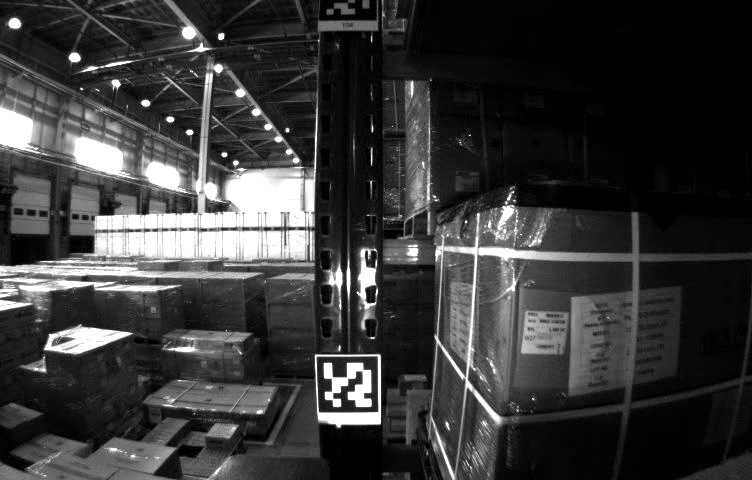True Barcode: (521, 309, 573, 355)
